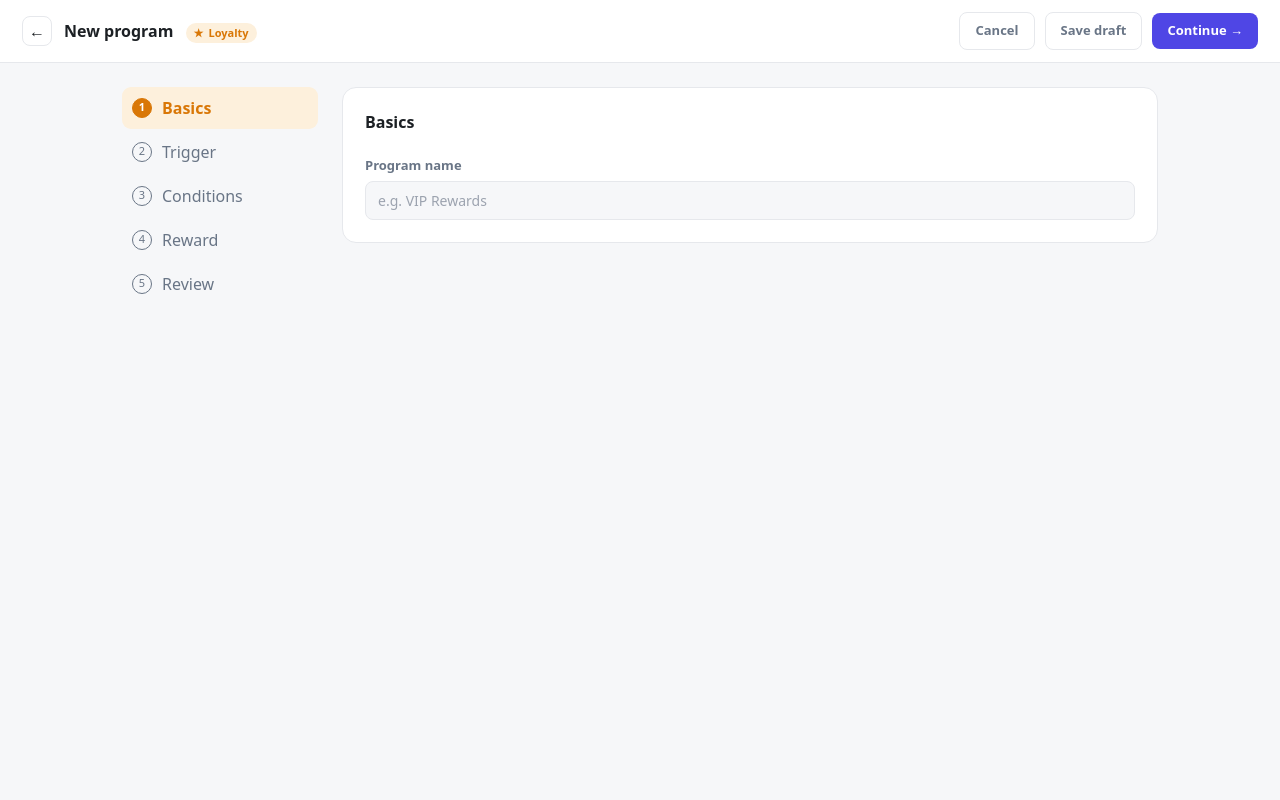
Test: ConditionBuilder variable set swaps with the selected event
Click the button "Continue →" at [1205, 31], box [1152, 13, 1258, 48]
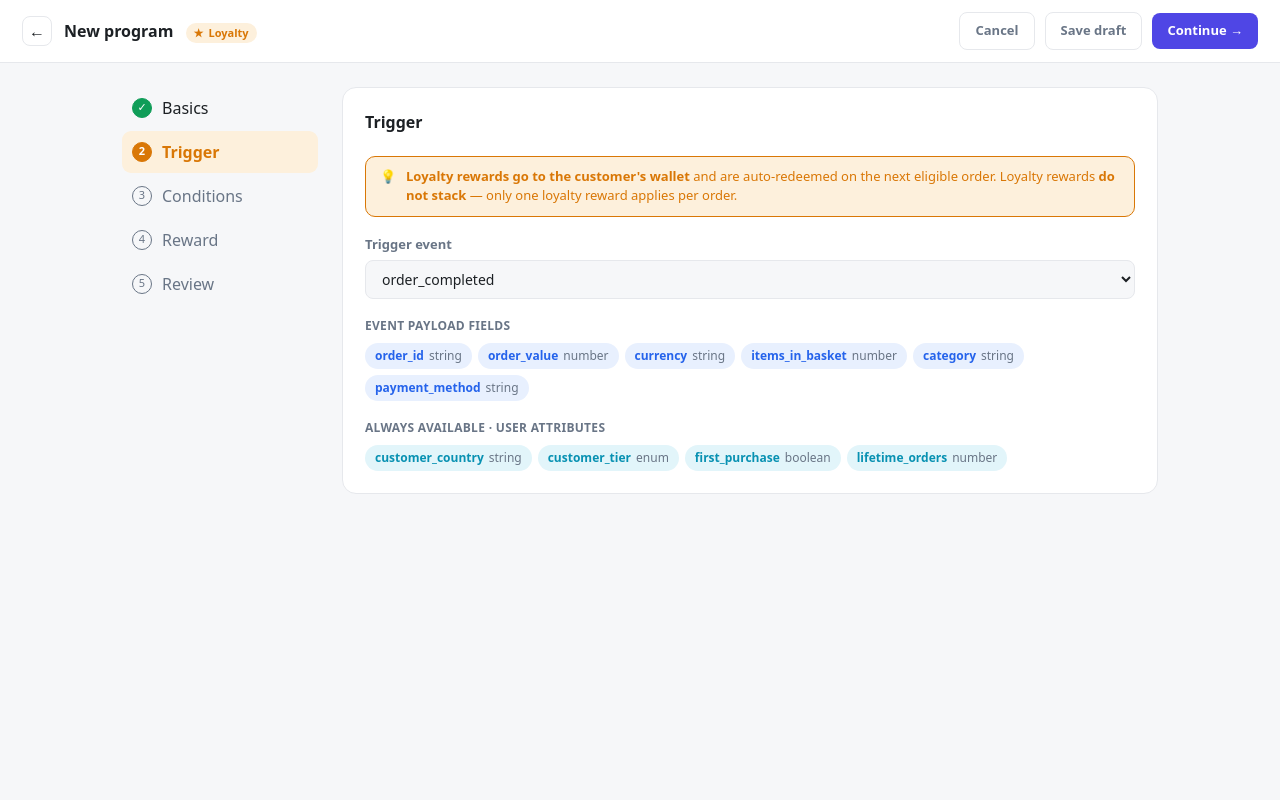
// Switch the trigger event to review_submitted
Select "review_submitted" in the dropdown at [750, 280], box [365, 260, 1135, 299]
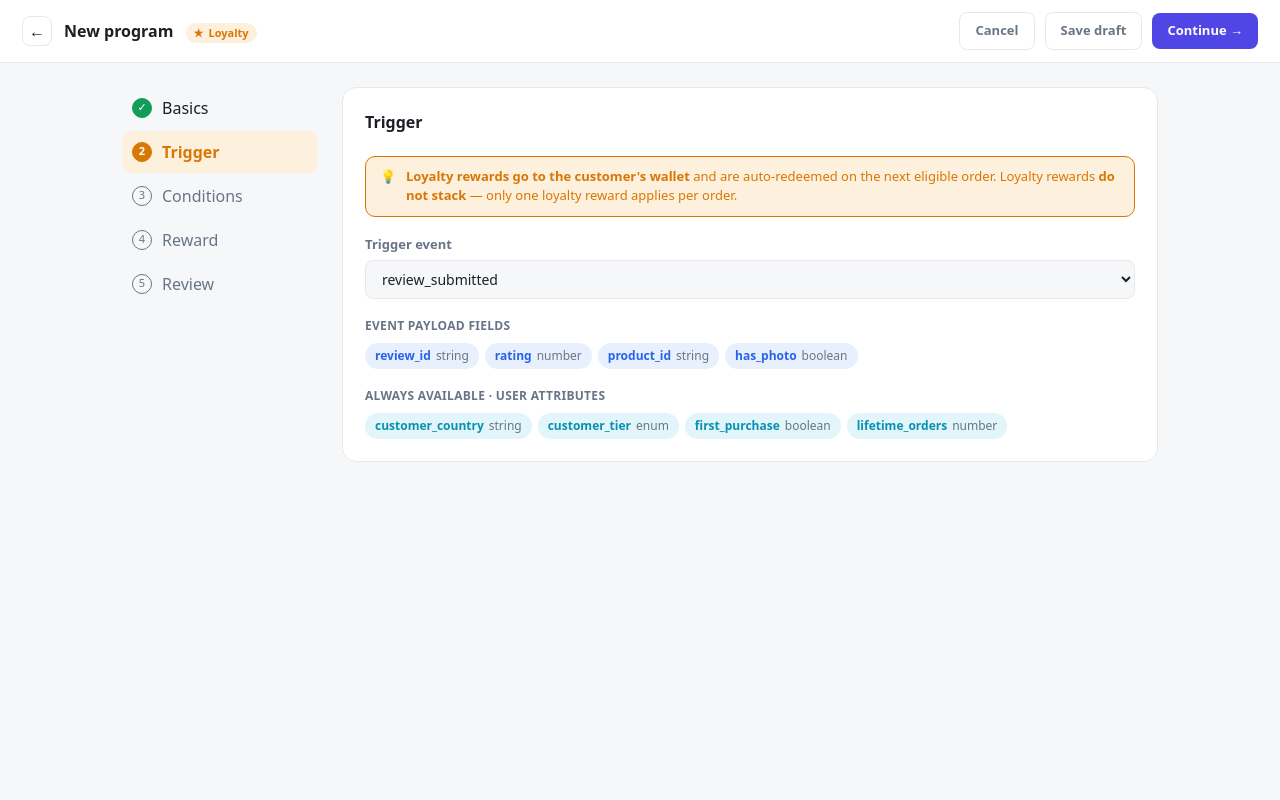
Click the button "Continue →" at [1205, 31], box [1152, 13, 1258, 48]
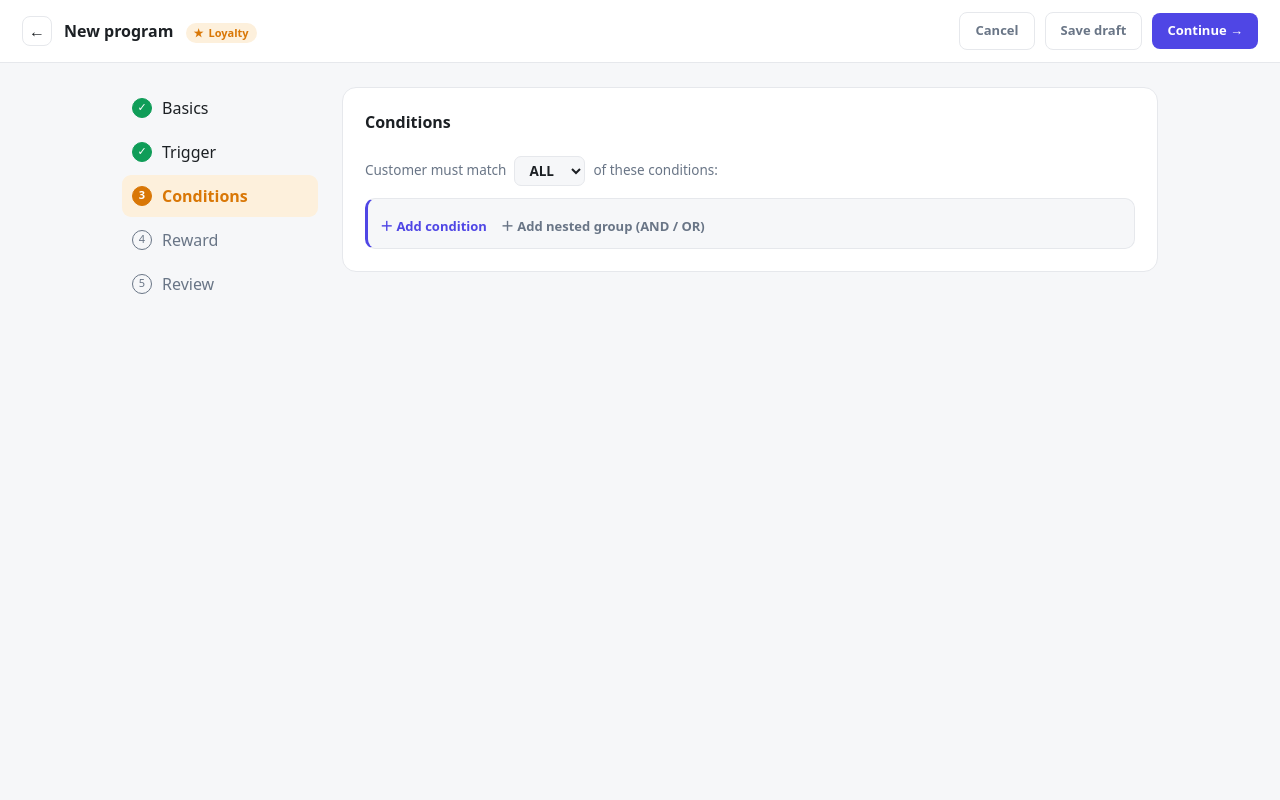
// Open the variable picker
Click the button "＋ Add condition" at [433, 226], box [380, 216, 487, 236]
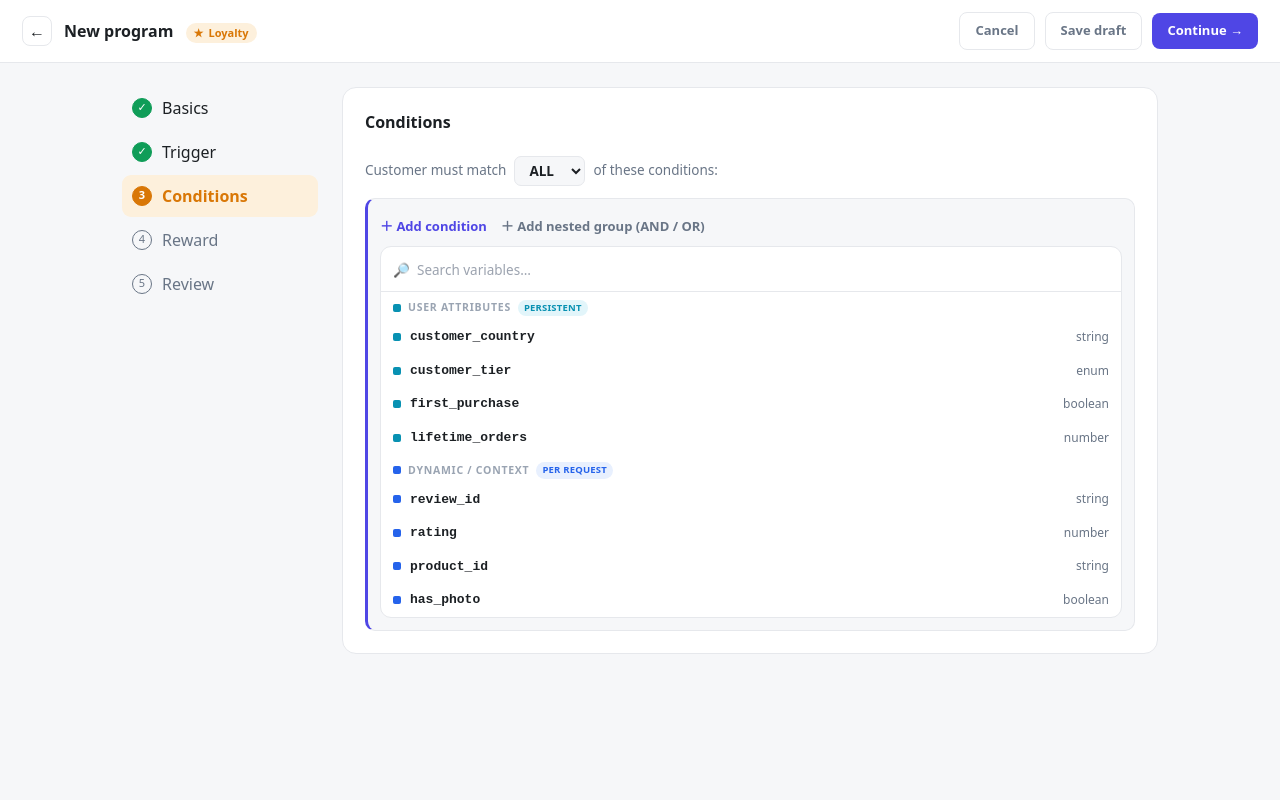
Now the text "rating" is shown, box [410, 523, 457, 542]
Now the text "product_id" is shown, box [410, 556, 488, 576]
Now the text "has_photo" is shown, box [410, 590, 480, 610]
